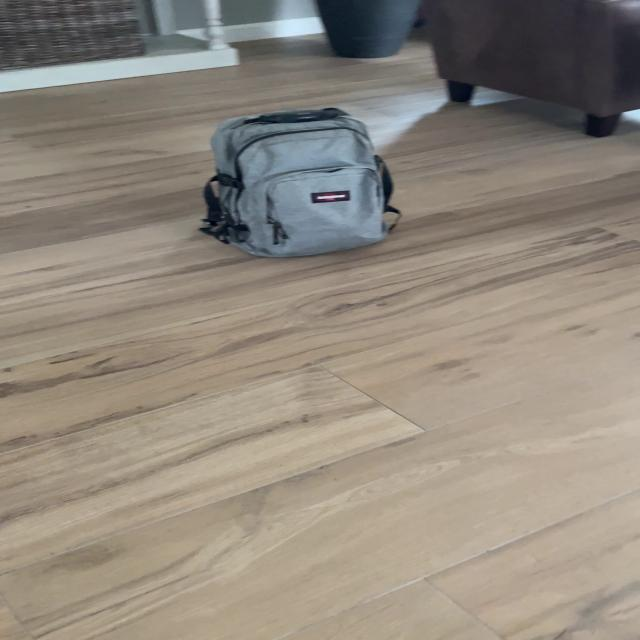backpack: (186, 100, 407, 265)
